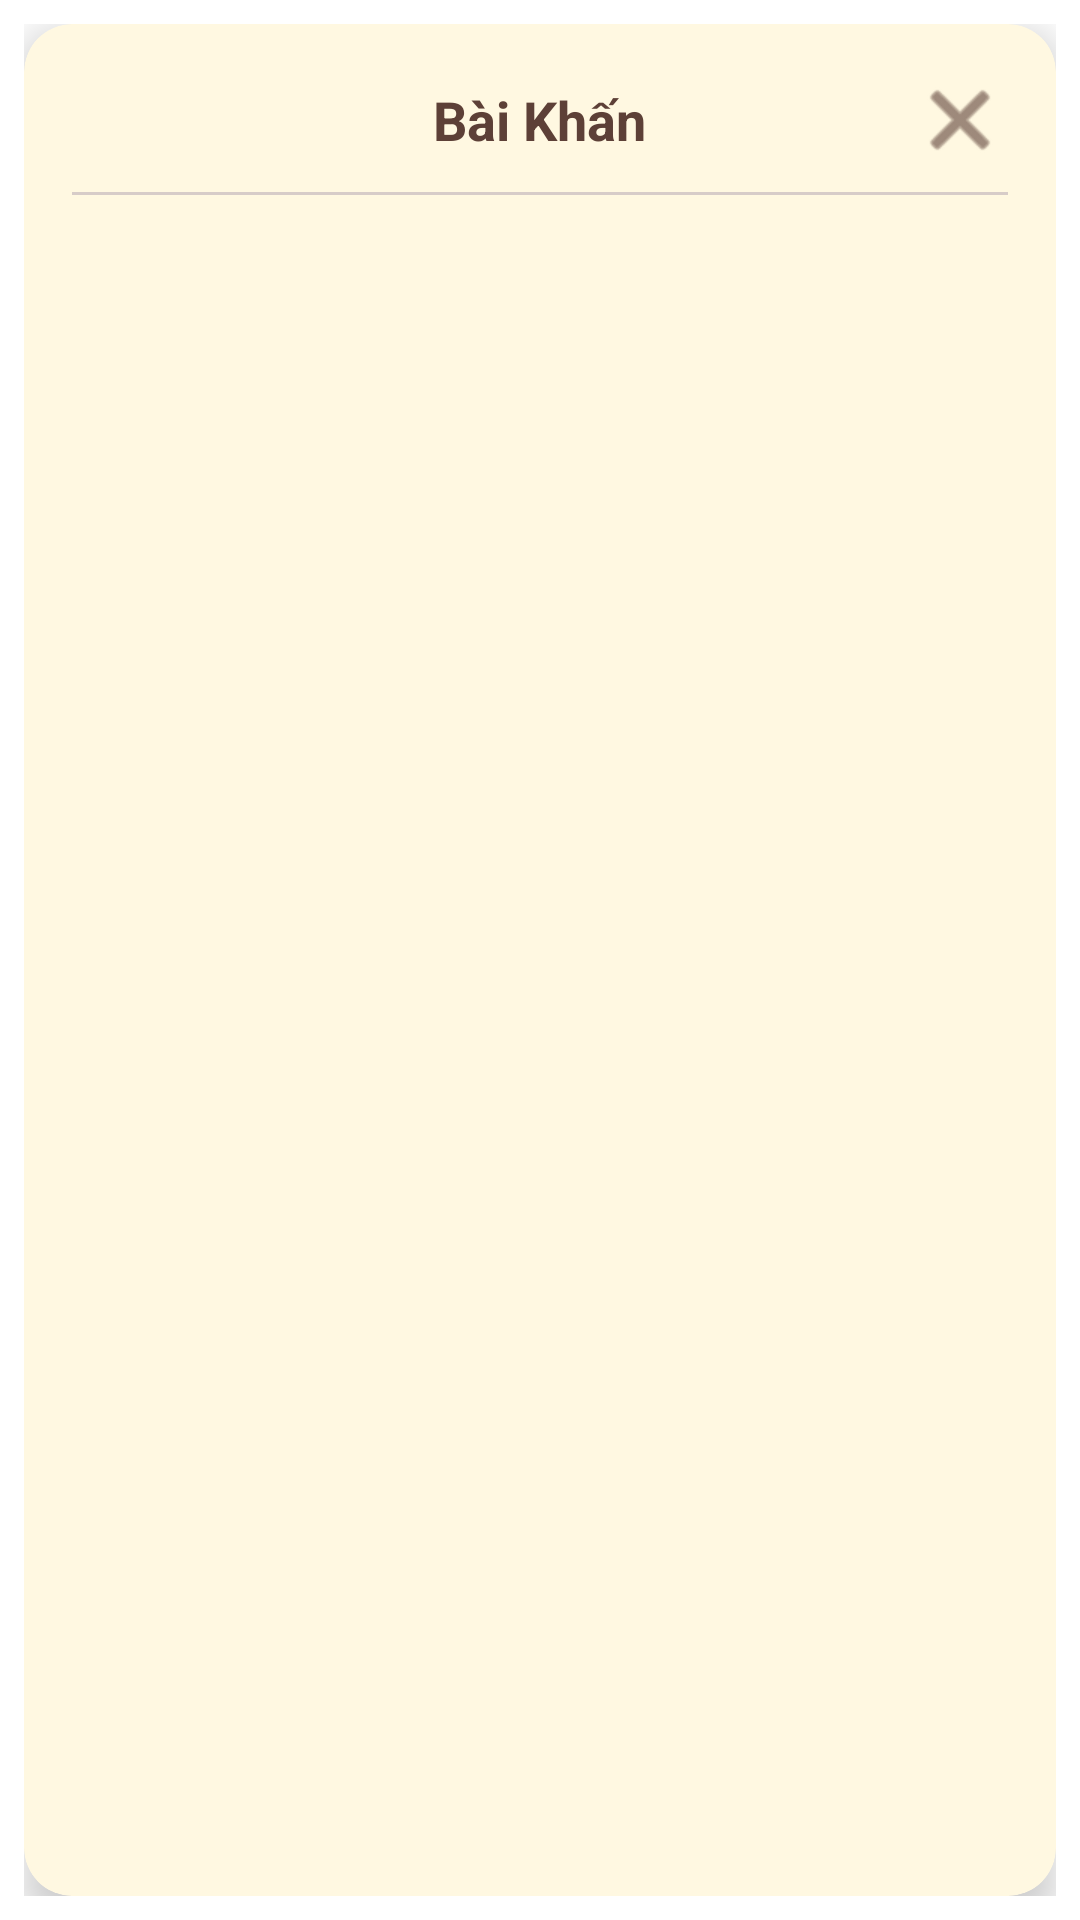

Where icons sit on this 1080x1920 app screen, as (x1, y1, x2, y2):
Đóng: (930, 90, 990, 150)
